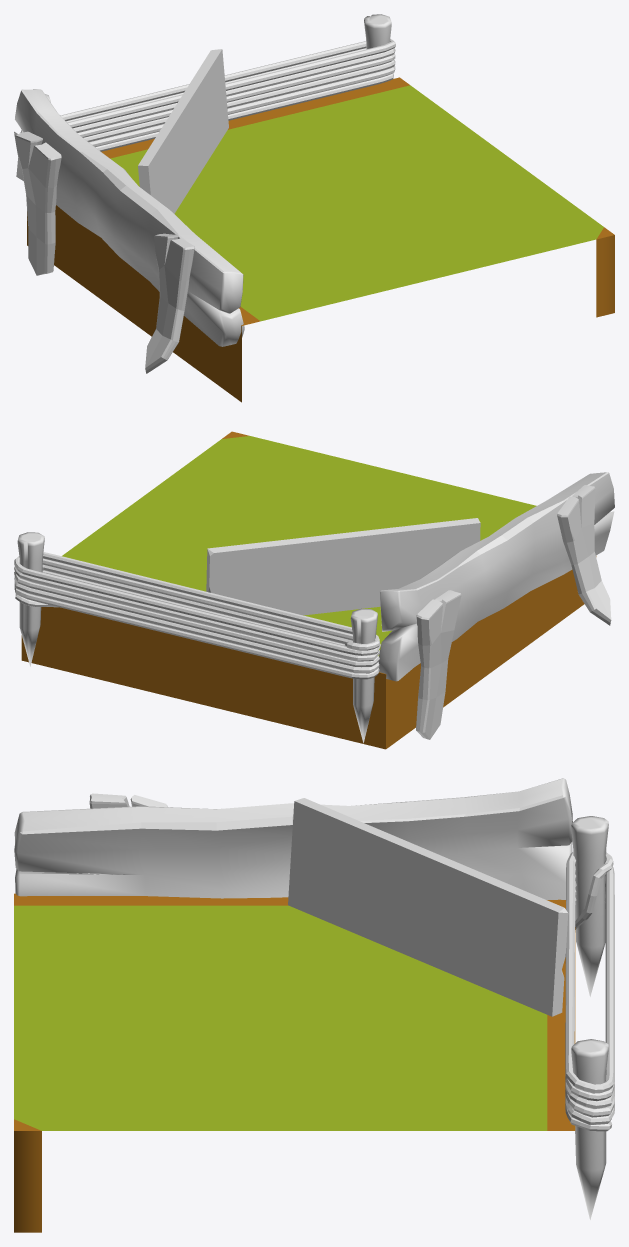
The model's file is Turn4501.fbx.
3 renders of one model, top to bottom at view 1: azimuth 30°, elevation 25°; view 2: azimuth 150°, elevation 25°; view 3: azimuth 270°, elevation 25°, orthographic. The views are drawn at different scales.
Parts seen in each view (by area): view 1: Cube.007, Cube.004, Cube.002, Cube.003; view 2: Cube.007, Cube.004, Cube.002, Cube.003; view 3: Cube.007, Cube.004, Cube.003, Cube.002.
Part boxes in pixels (x1,y1,x2,y2): Cube.007: (27, 77, 614, 402); Cube.004: (14, 89, 244, 373); Cube.002: (20, 14, 395, 151); Cube.003: (138, 49, 228, 213); Cube.007: (21, 431, 596, 749); Cube.004: (378, 472, 614, 739); Cube.002: (14, 532, 380, 743); Cube.003: (206, 518, 480, 615); Cube.007: (14, 893, 575, 1232); Cube.004: (14, 778, 572, 899); Cube.003: (288, 798, 568, 1016); Cube.002: (565, 816, 614, 1219).
Size of the model in its own units: 231 by 85.71 by 214.
